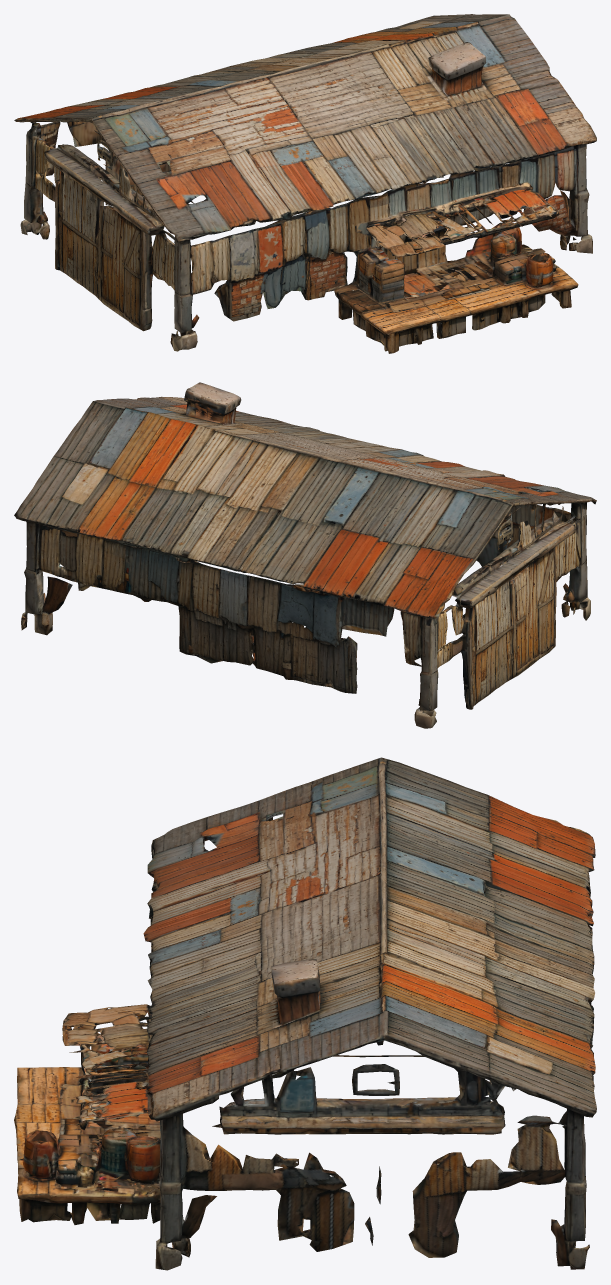
File: Settle_Warehouse.fbx
The picture shows the model from 3 angles, top to bottom: view 1: azimuth 30°, elevation 25°; view 2: azimuth 150°, elevation 25°; view 3: azimuth 270°, elevation 25°; orthographic projection. The views are drawn at different scales.
Visible parts, largest first — view 1: texture_mapping; view 2: texture_mapping; view 3: texture_mapping.
Boxes of the visible parts, <box> form: texture_mapping: <box>14,14,596,353</box>; texture_mapping: <box>14,382,596,728</box>; texture_mapping: <box>14,757,596,1270</box>.
Size of the model in its own units: 0.9958 by 0.8701 by 0.4214.
1 material, 1 textured.
